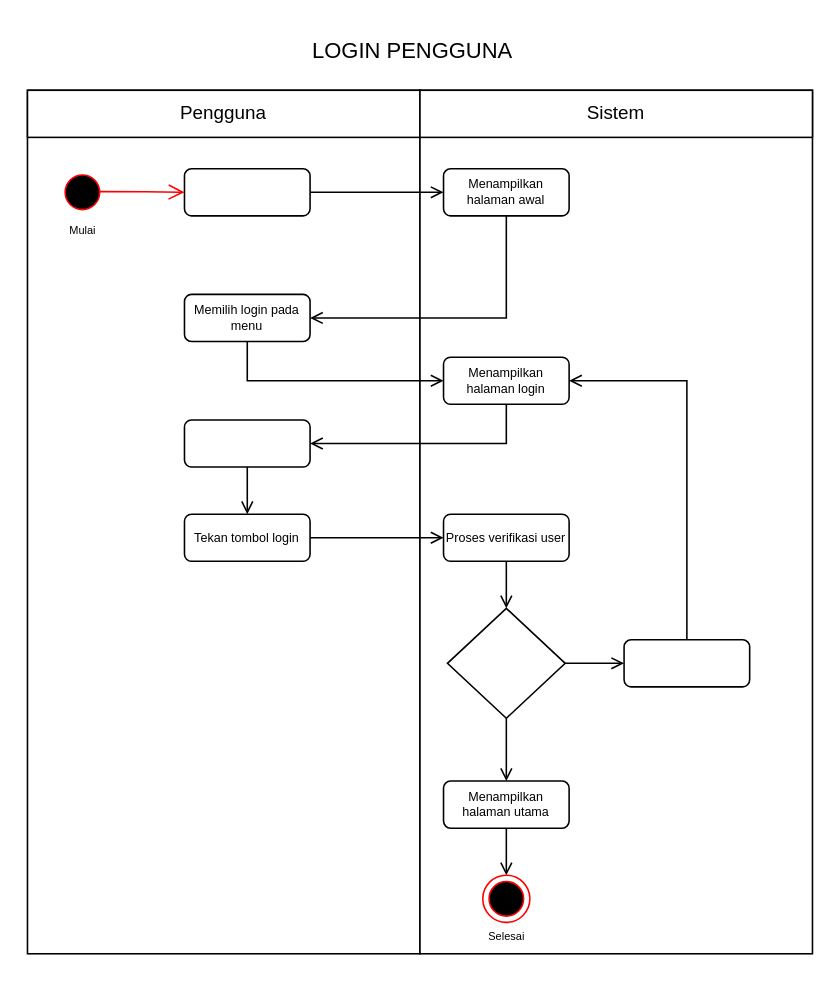
The diagram is 840 pixels wide and 981 high, and some of its shapes have lost their labels. The centre of each missing label's shape, as x and y in pixels:
"Input username dan password" belongs at [246,442].
"Menampilkan informasi kesalahan" belongs at [686,662].
"Mengakses website melalui browser" belongs at [246,191].
"Username & Password valid ?" belongs at [505,662].
